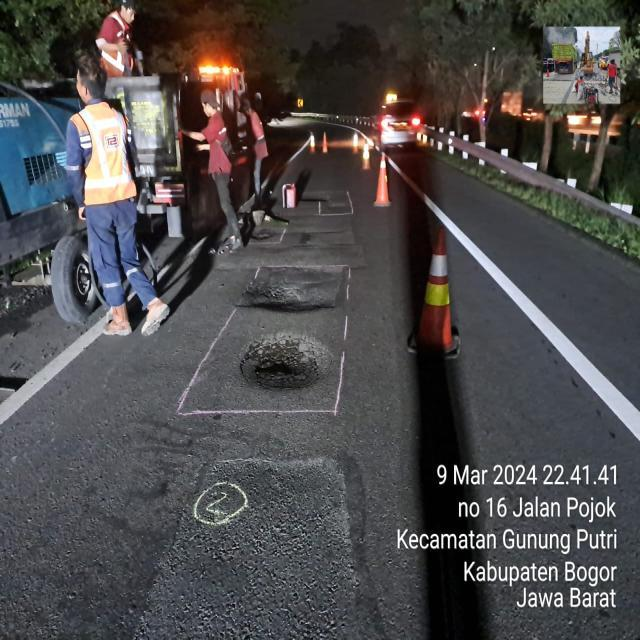Buraco: (236, 329, 340, 394), (232, 264, 340, 315), (298, 193, 332, 204), (247, 230, 277, 242)
